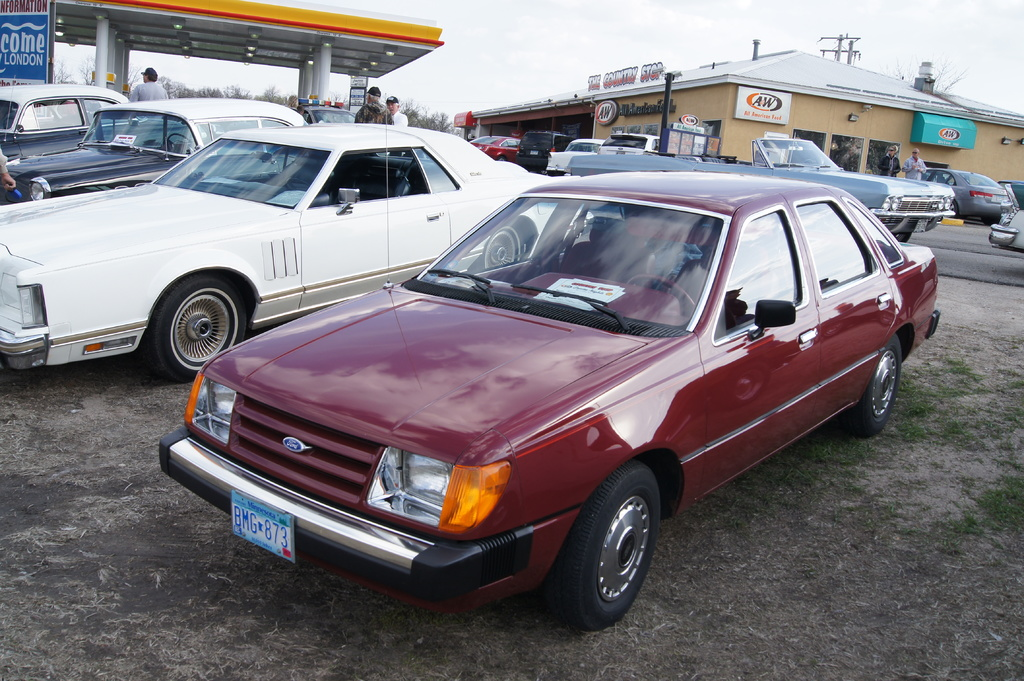cars: (0, 85, 1023, 632)
